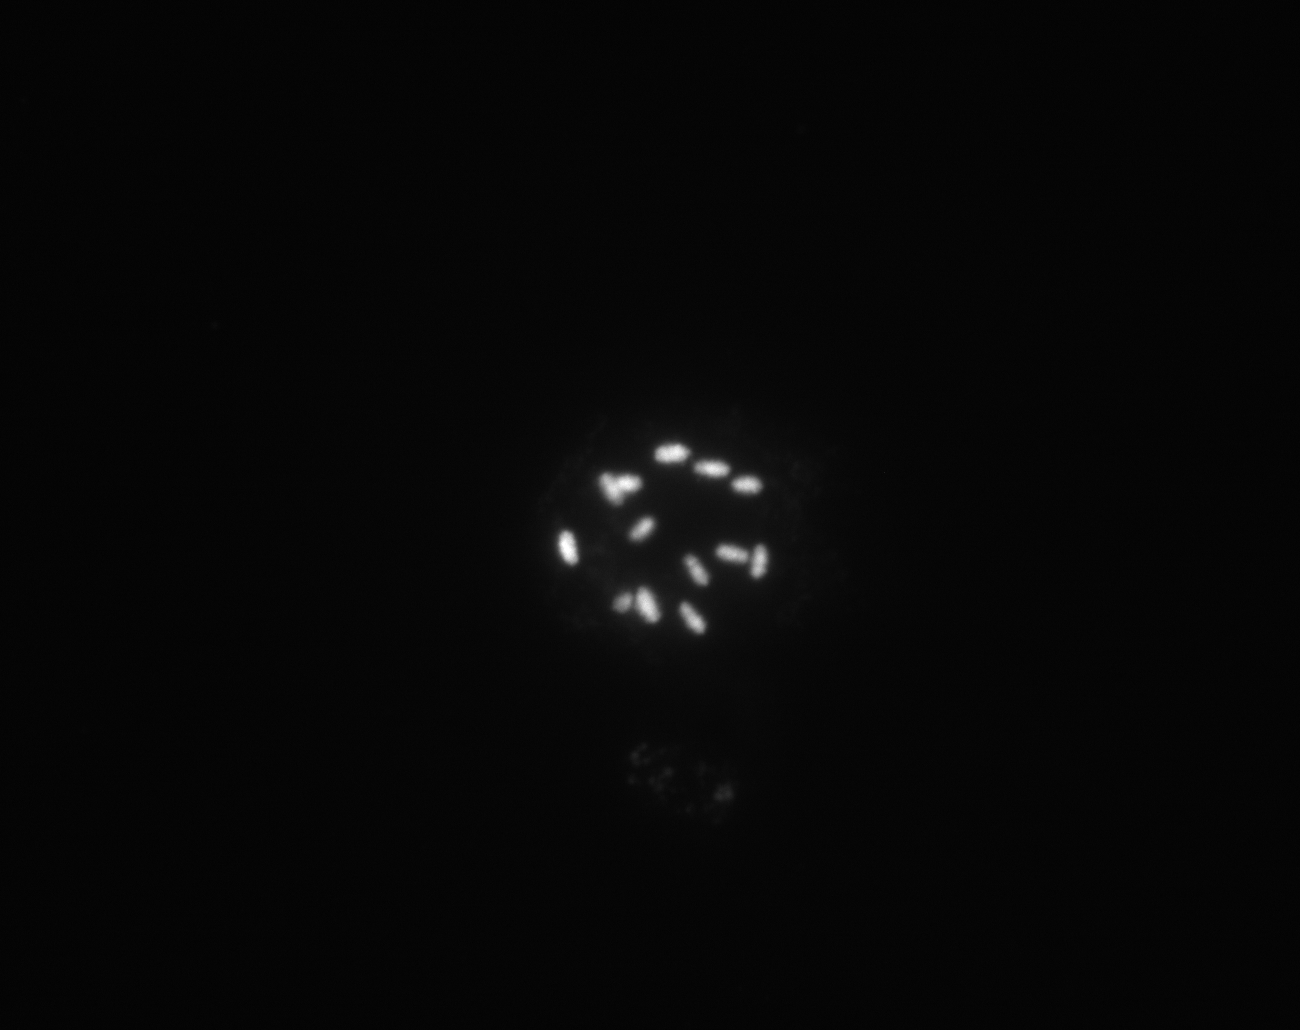Chromosomes: (508, 378, 841, 662)
